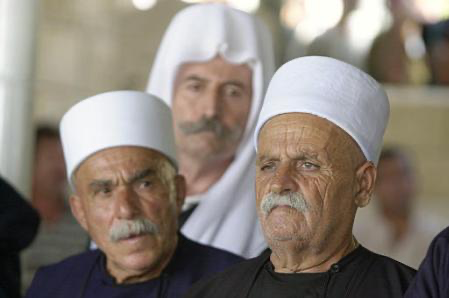Face: (70, 155, 178, 270), (251, 128, 347, 253), (173, 62, 256, 163)
